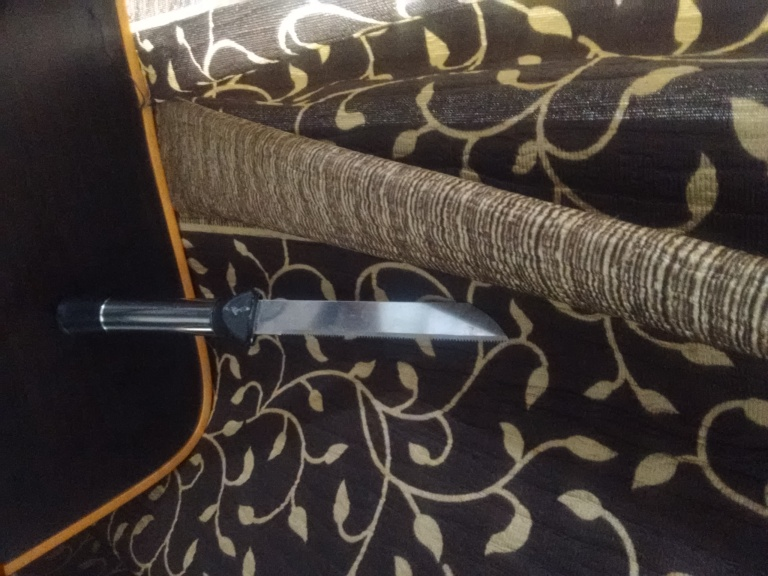knife: (55, 290, 512, 352)
